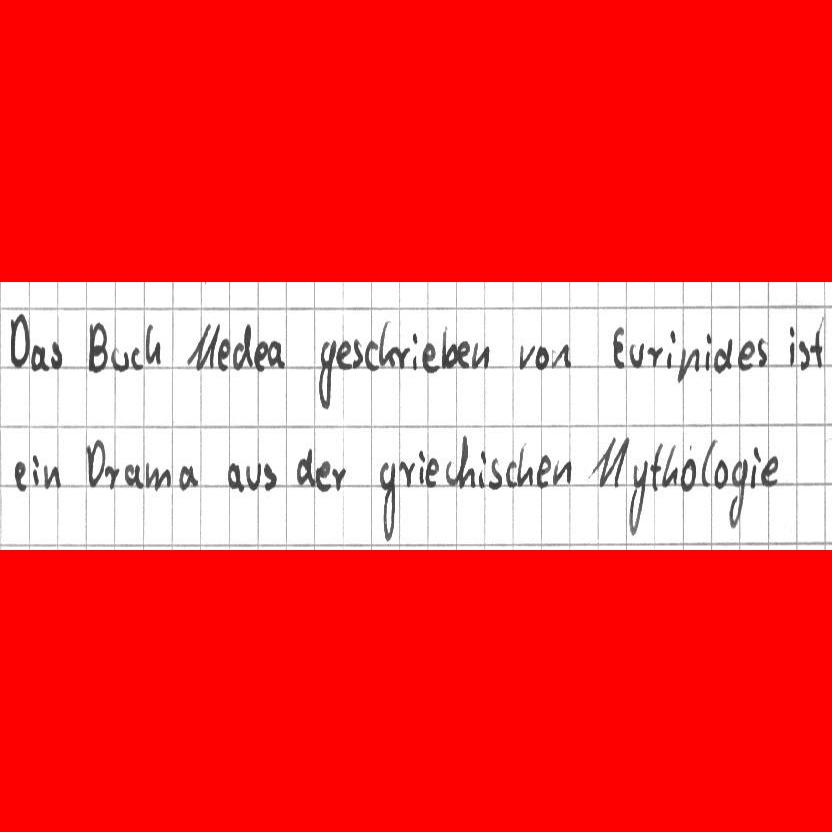Char: (586, 433, 630, 489), (624, 457, 649, 540), (186, 321, 220, 371), (315, 337, 336, 412), (377, 460, 396, 541), (727, 456, 748, 529), (7, 311, 30, 371), (86, 318, 109, 375), (231, 320, 254, 371), (83, 436, 105, 488), (457, 433, 477, 490), (675, 345, 701, 383), (514, 440, 534, 488), (142, 322, 164, 365), (144, 459, 171, 494), (711, 334, 734, 375), (809, 317, 826, 368), (700, 437, 717, 488), (294, 447, 315, 488), (649, 440, 664, 494), (440, 323, 457, 369), (759, 453, 782, 487), (662, 443, 680, 486), (610, 324, 626, 371), (549, 457, 574, 487), (679, 455, 698, 493), (378, 319, 393, 367), (265, 336, 286, 370), (28, 342, 50, 373), (333, 337, 353, 371), (735, 338, 755, 372), (550, 340, 573, 369), (469, 340, 491, 370), (748, 444, 762, 491), (177, 462, 200, 490), (421, 342, 441, 374), (42, 462, 64, 491), (252, 337, 269, 374), (226, 460, 244, 494), (535, 452, 552, 488), (664, 327, 678, 370), (110, 345, 131, 373), (215, 337, 231, 373), (48, 337, 65, 370), (12, 458, 29, 491), (245, 456, 261, 491), (392, 342, 412, 369), (517, 342, 535, 372), (756, 334, 771, 370), (262, 461, 279, 492), (314, 460, 331, 491), (123, 462, 143, 488), (713, 457, 729, 489), (349, 336, 364, 370), (797, 338, 811, 374), (476, 449, 488, 491), (488, 456, 503, 489), (646, 344, 665, 370), (628, 341, 644, 371), (364, 337, 378, 371), (330, 465, 347, 492), (104, 463, 121, 489), (424, 457, 439, 486), (456, 339, 470, 369), (30, 450, 41, 488), (788, 324, 797, 370), (535, 343, 549, 371), (443, 458, 457, 486), (504, 459, 517, 489), (398, 461, 414, 485), (416, 449, 426, 486), (409, 330, 418, 371), (129, 345, 143, 370), (705, 330, 712, 374)
